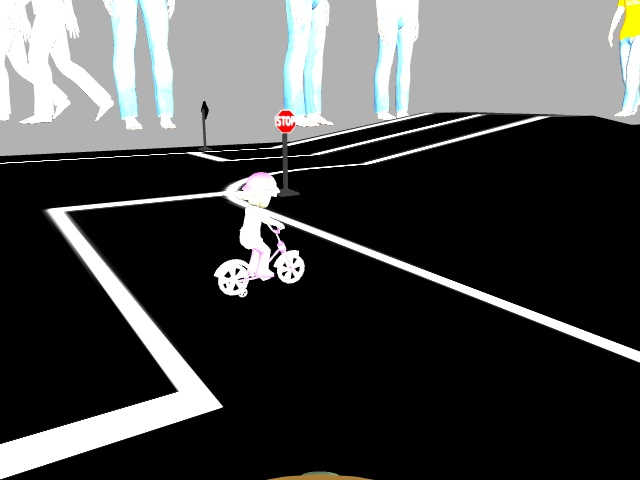Pedestrian: (217, 174, 309, 296)
Stop: (270, 109, 296, 136)
